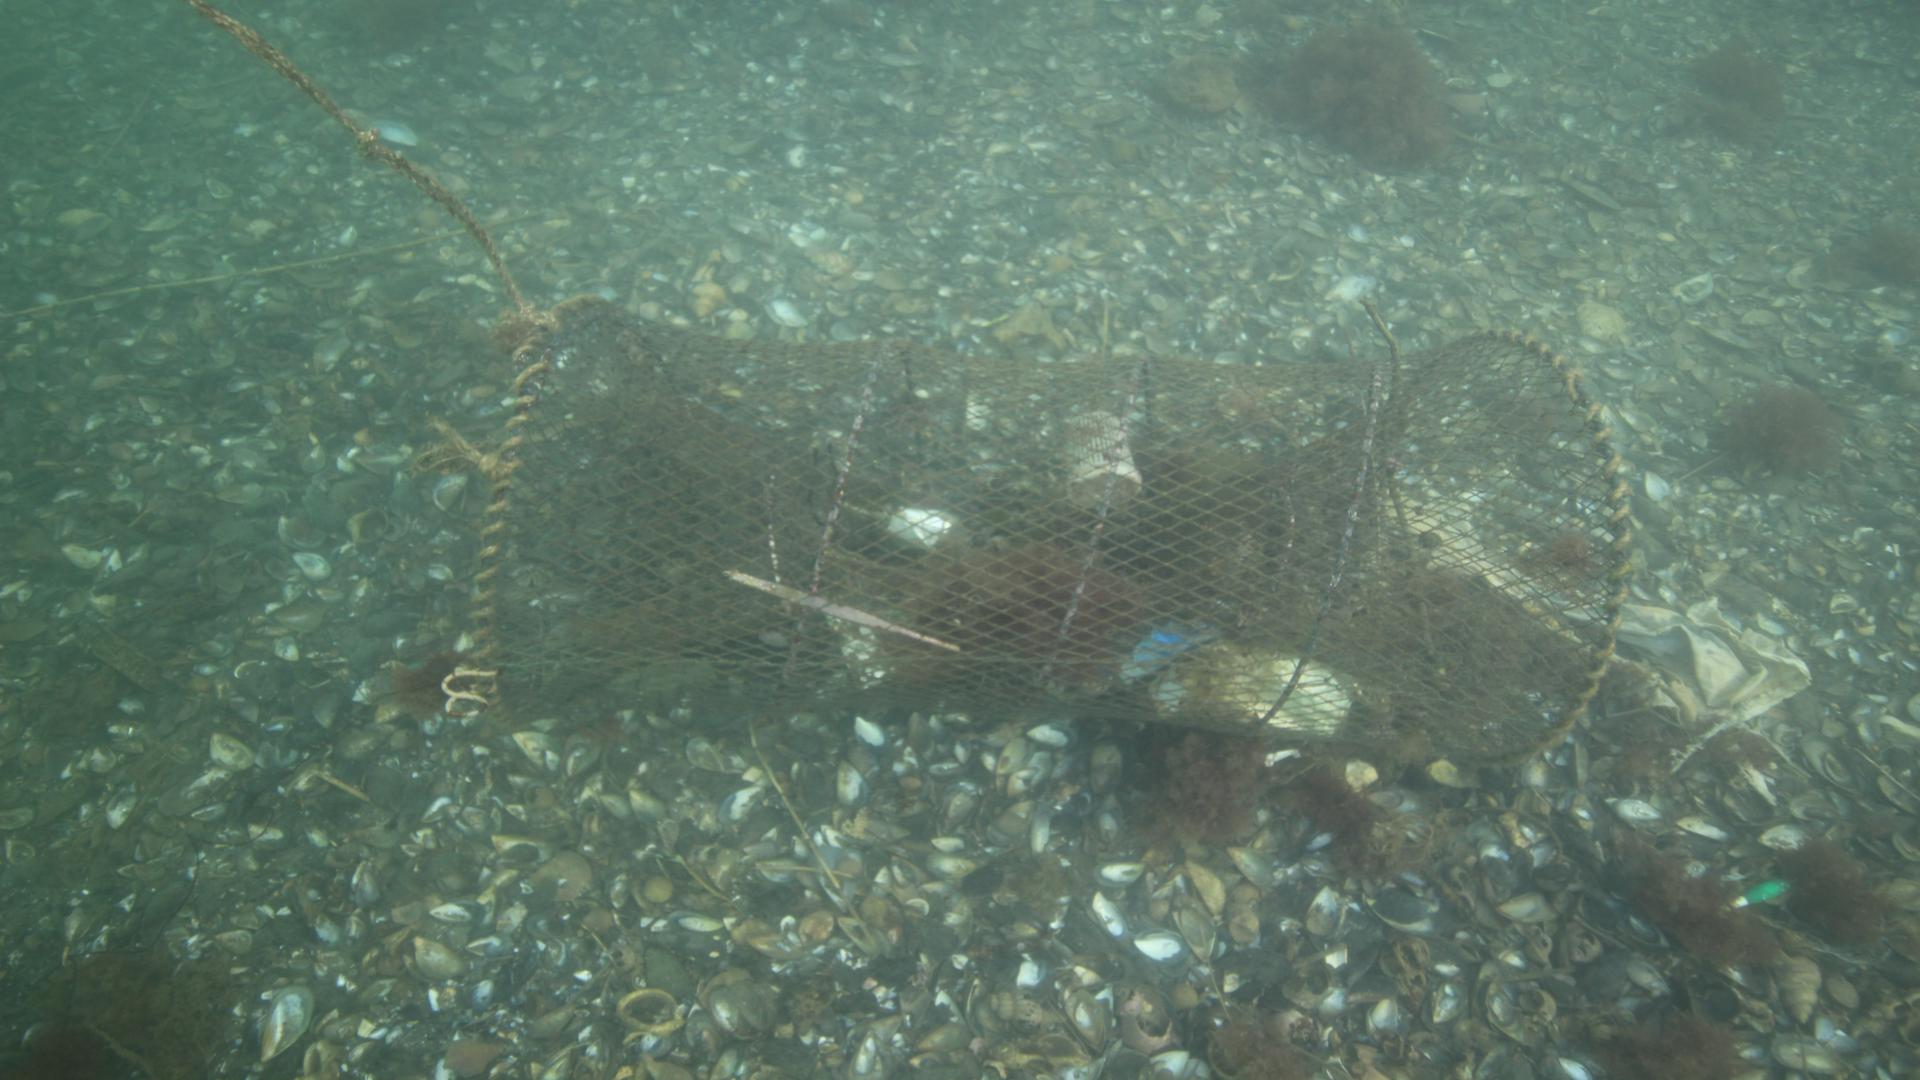rope: (190, 1, 531, 320)
spring fish trap: (469, 290, 1630, 767)
